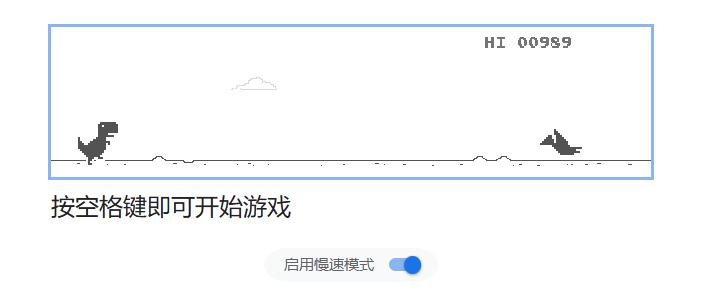bird: (539, 128, 582, 156)
dino: (75, 120, 119, 166)
